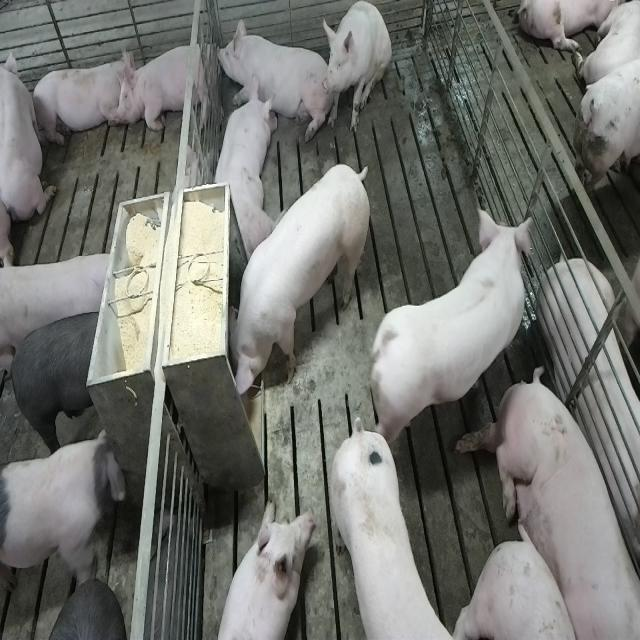Feeding: (220, 162, 368, 404)
Lateral_lying: (462, 368, 640, 640), (540, 254, 640, 580)
Sitting: (321, 1, 391, 135)
Standing: (371, 201, 538, 474), (324, 419, 461, 640), (1, 423, 127, 595), (10, 305, 104, 451), (3, 252, 117, 364), (39, 579, 125, 640)
Sternal_lying: (214, 10, 326, 140), (211, 500, 313, 640), (210, 81, 274, 258), (3, 40, 57, 229), (29, 51, 131, 149), (118, 36, 214, 134)
